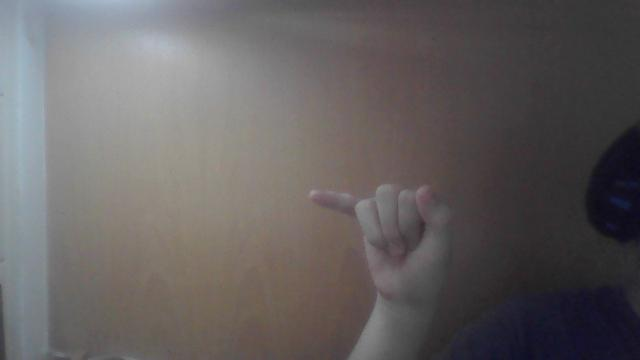Right: (301, 176, 459, 294)
